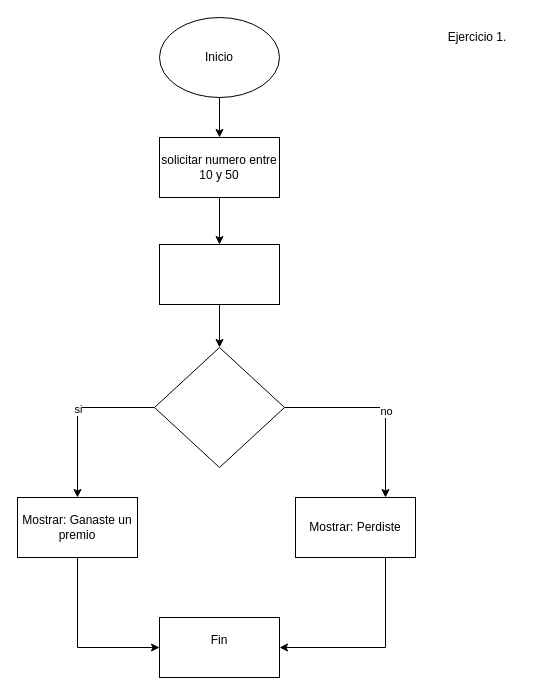
This 535x695 diagram has some shape labels left out. The shapes that lost their labels are listed below. From the top down, each one's centre as x and y in pixels, then its label:
(x=219, y=274): Convertir entrada a entero
(x=219, y=407): ¿numero == 30?
